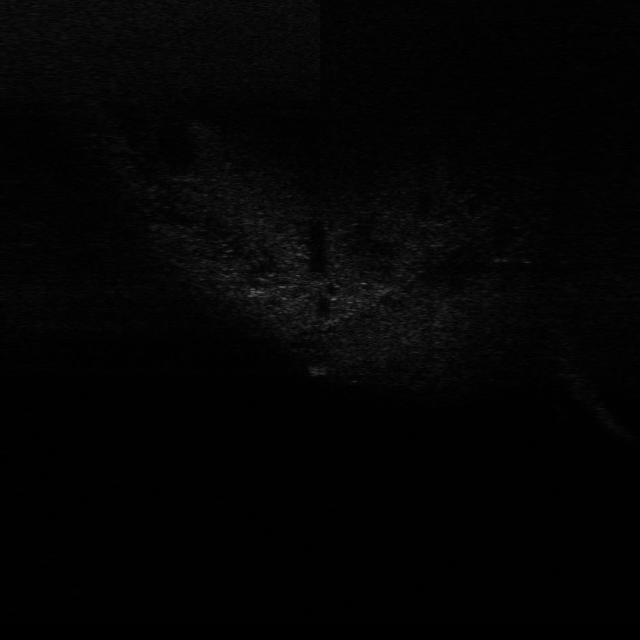cube: (307, 364, 329, 380)
